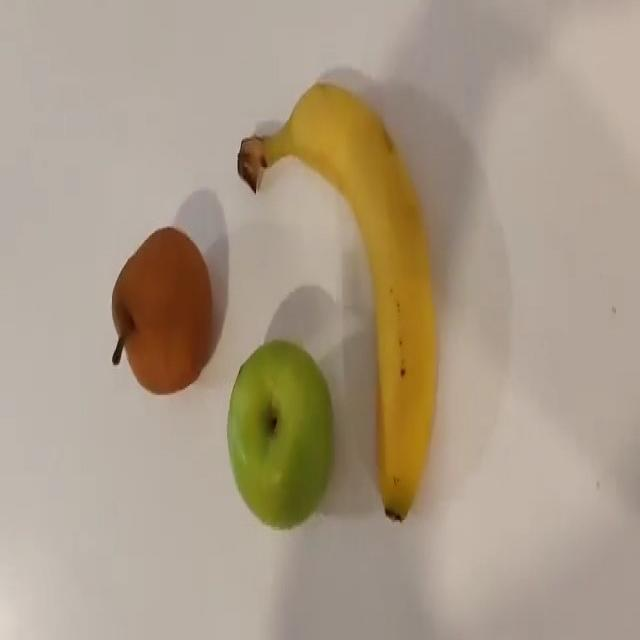Apple: (226, 339, 334, 529), (110, 225, 214, 394)
Banana: (236, 80, 438, 522)
